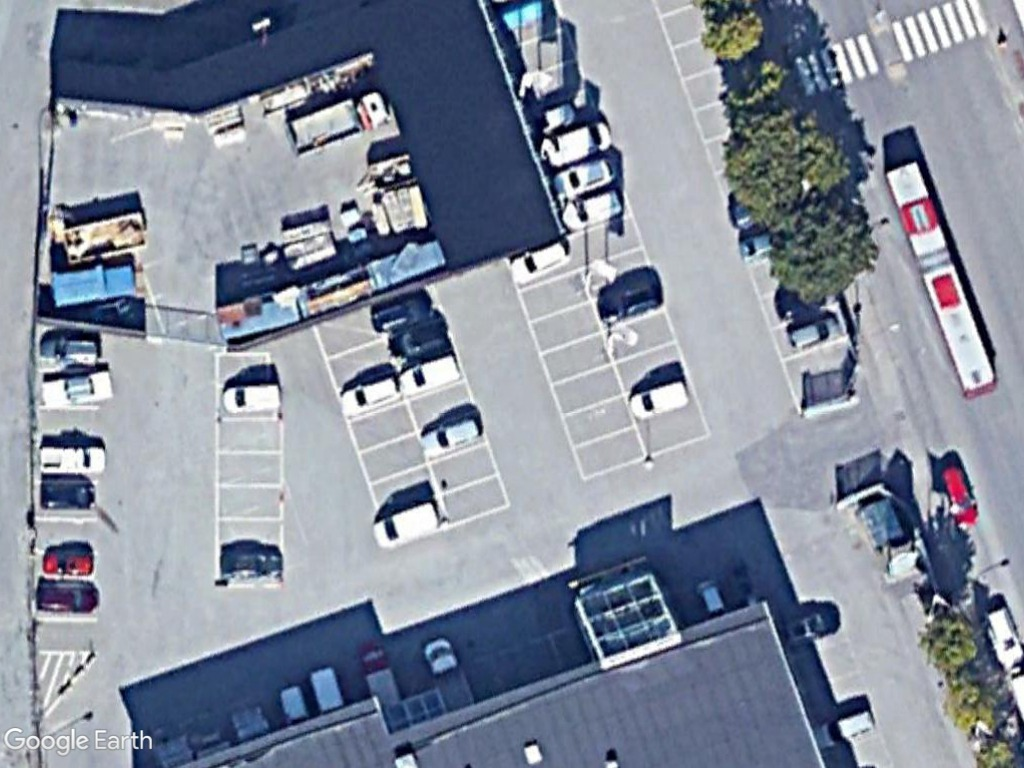bus: (880, 149, 1002, 404)
car: (936, 457, 988, 537), (503, 232, 572, 289), (550, 151, 625, 199), (780, 308, 850, 358), (813, 703, 880, 752), (32, 330, 107, 372), (38, 543, 100, 581)
other: (35, 439, 114, 481)
van: (367, 494, 447, 553), (540, 116, 616, 169), (623, 376, 695, 425), (398, 348, 463, 401), (337, 371, 407, 416), (560, 184, 628, 230), (217, 379, 289, 418)
